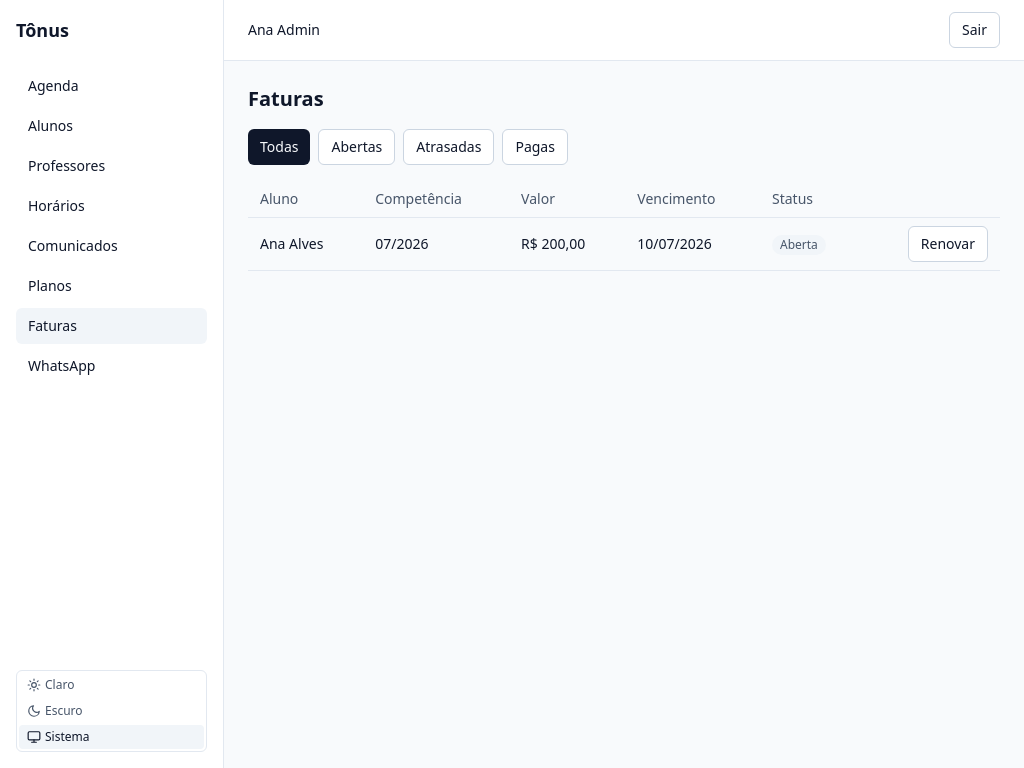
Test case: renovar › explica o 409 com a mensagem do back e refaz a lista
Click the button with aria-label "Renovar a fatura de Ana Alves" at (948, 244), box [908,226,988,262]
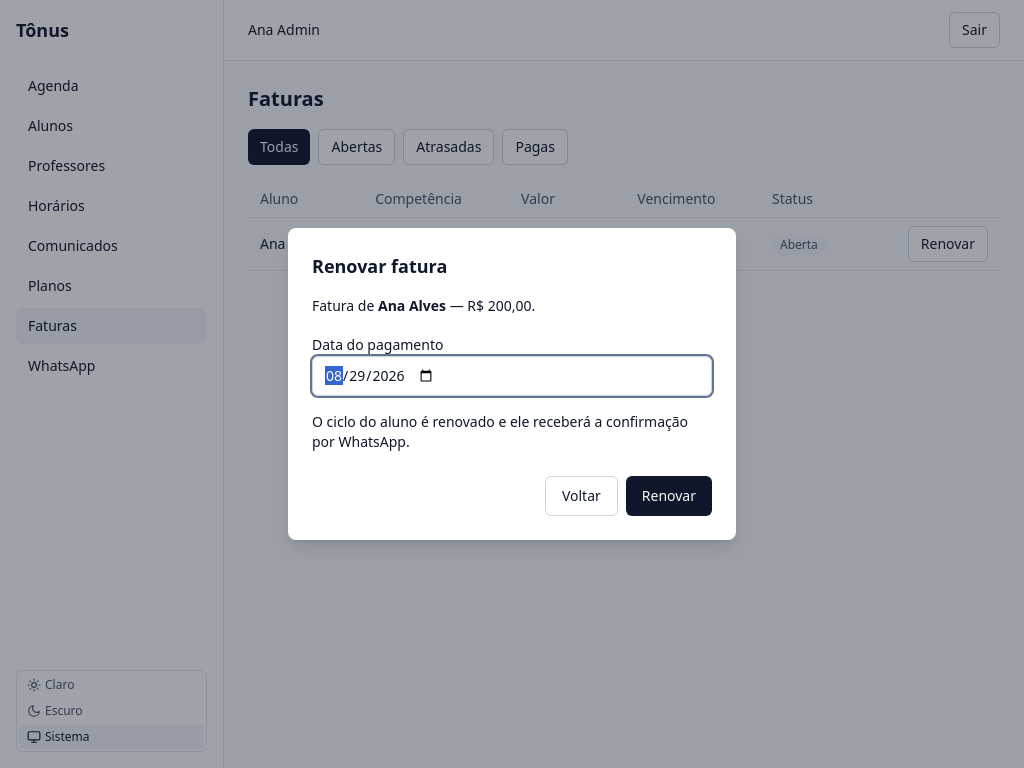
Click the button "Renovar" at (669, 496), box [626,476,712,516]
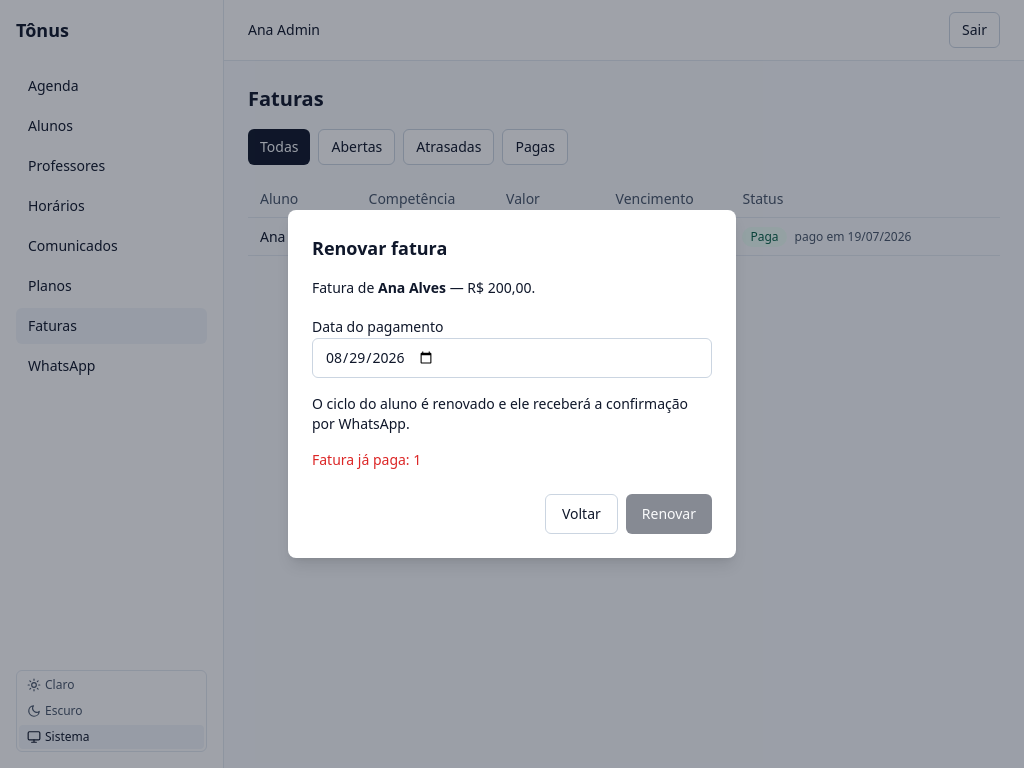
Expected: the text "Fatura já paga: 1" is shown, [312,450,421,469]
Expected: the text "Paga" is shown, [742,227,787,247]
